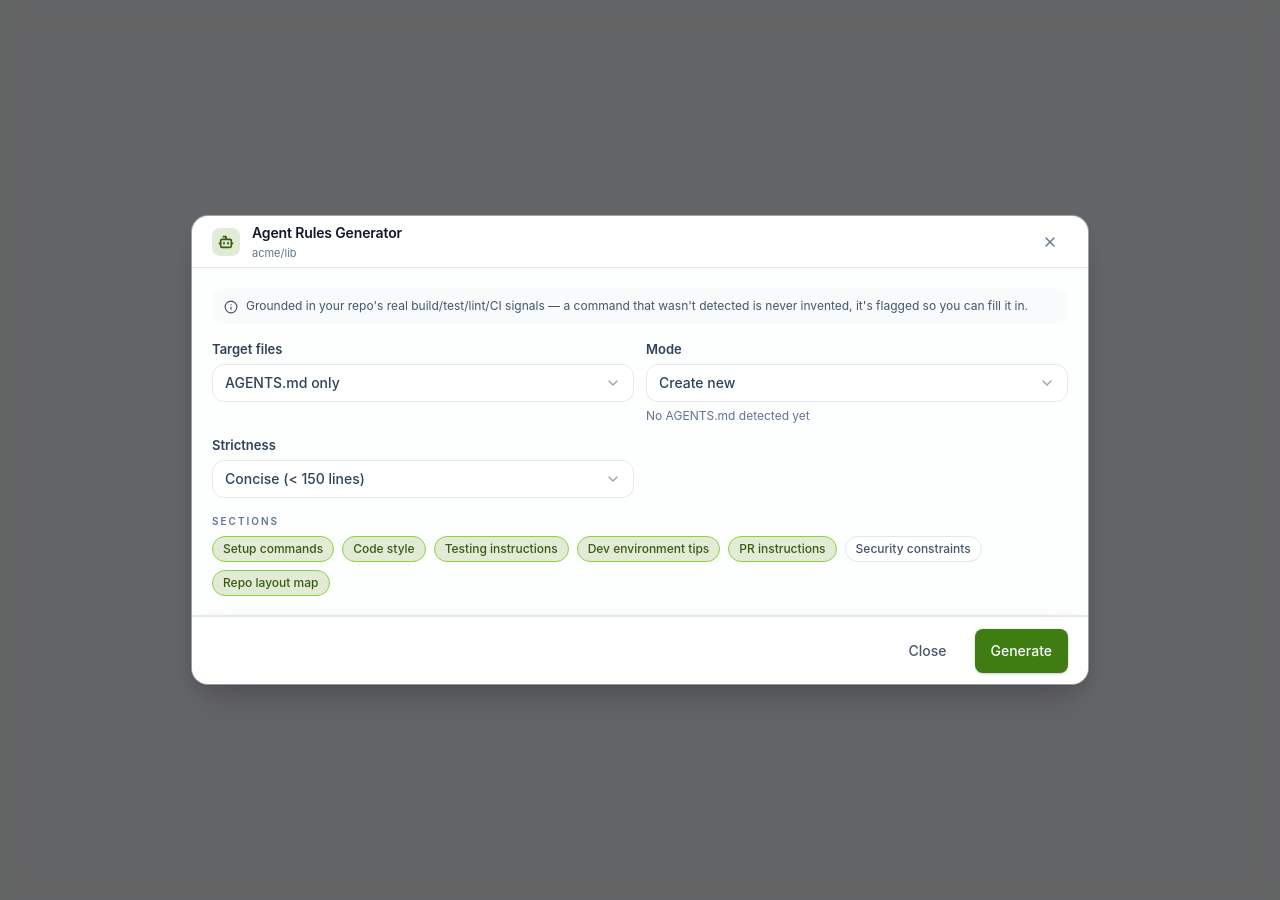
AgentRulesModal — deterministic no-AI fallback (Addendum 6b.2) › surfaces a retryable error state for a genuine transport failure (not a quota/AI-availability case)
Click the button "Generate".
click(1021, 650)  # box [974,628,1068,672]
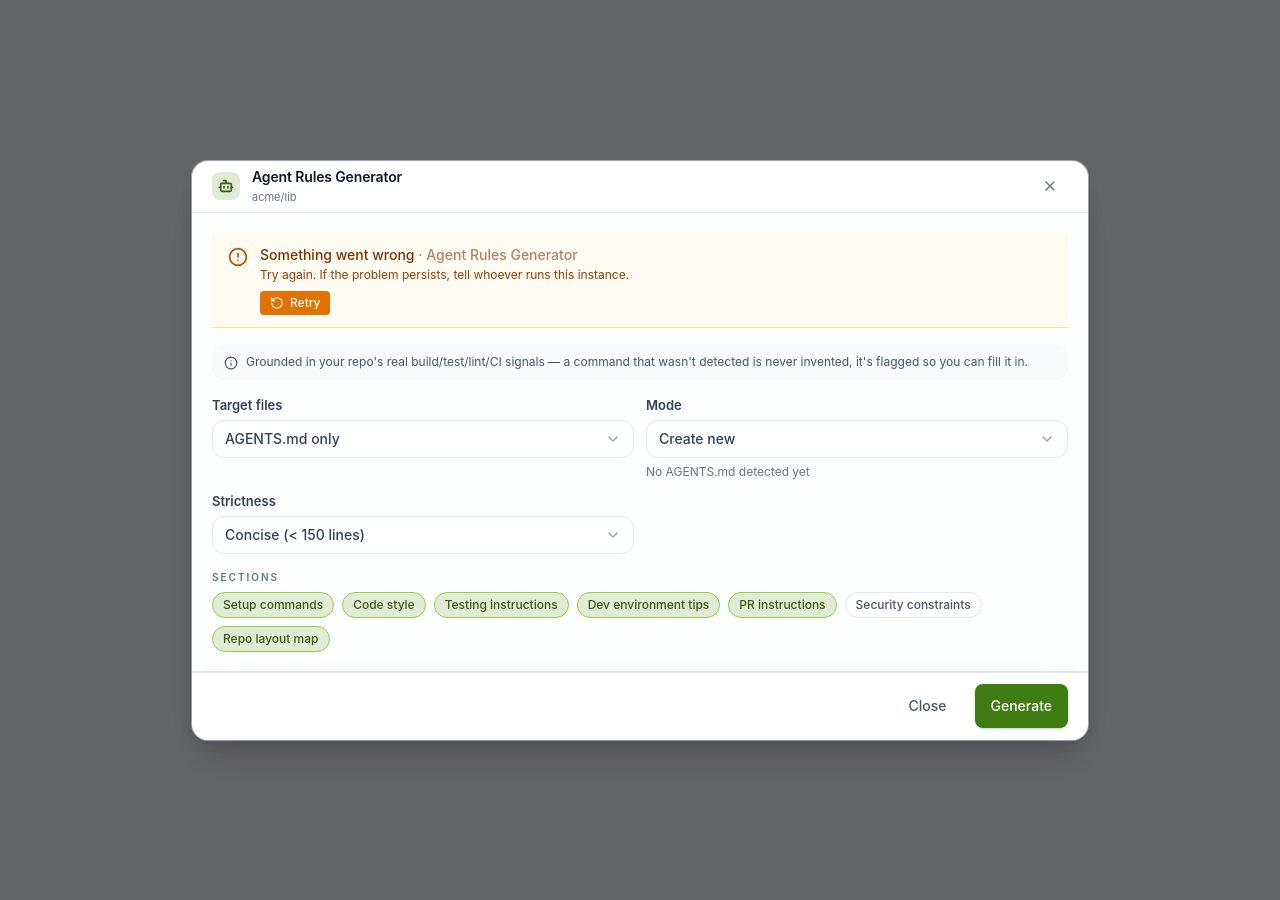
Expected: the button "Retry" is shown, [260,290,330,314]
